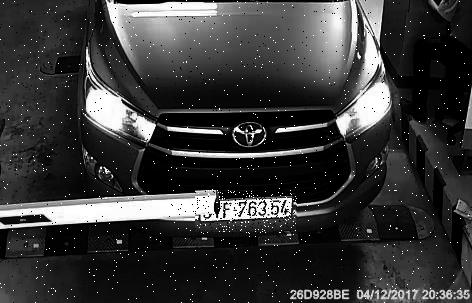License-plate: (197, 192, 299, 235)
